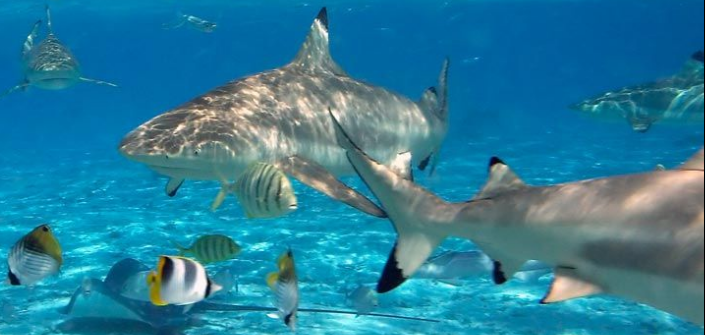fishLarge: (209, 160, 300, 217), (176, 231, 242, 262)
fishRound: (145, 252, 220, 306), (15, 222, 63, 289), (266, 248, 300, 327)
shark: (328, 107, 696, 315), (117, 6, 451, 215), (15, 8, 118, 100), (570, 67, 693, 134)
